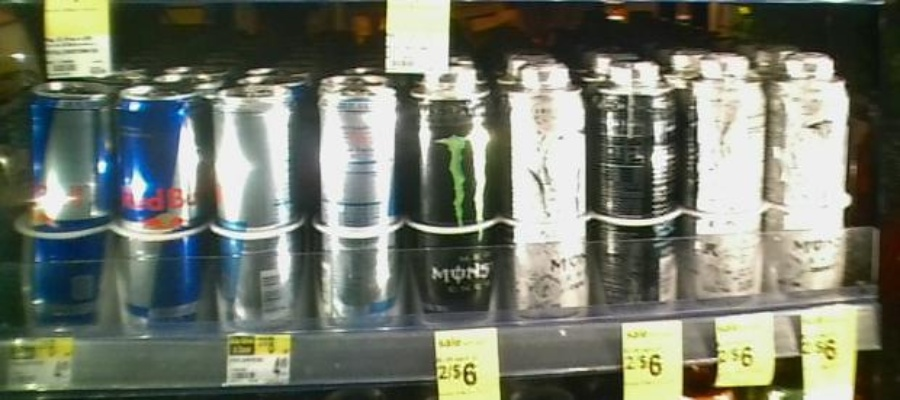bottle: (210, 73, 312, 337), (595, 77, 694, 329), (408, 77, 499, 339), (115, 79, 206, 336), (20, 80, 109, 342), (316, 70, 401, 335), (505, 81, 592, 332), (780, 71, 859, 314), (698, 76, 774, 316)
